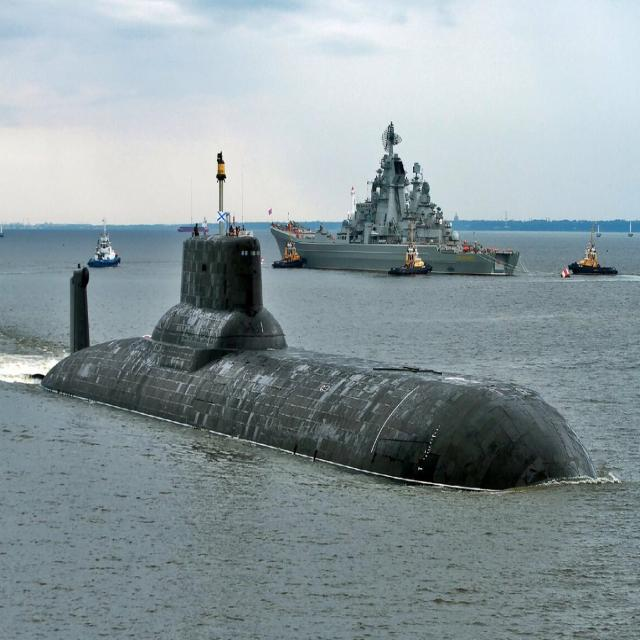submarine: (33, 147, 610, 498)
